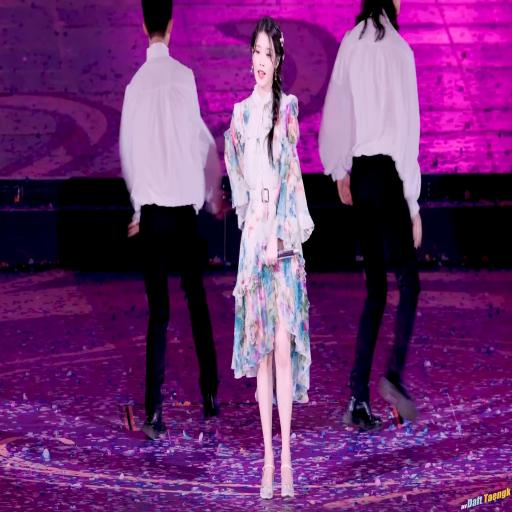IU: (250, 17, 284, 91)
